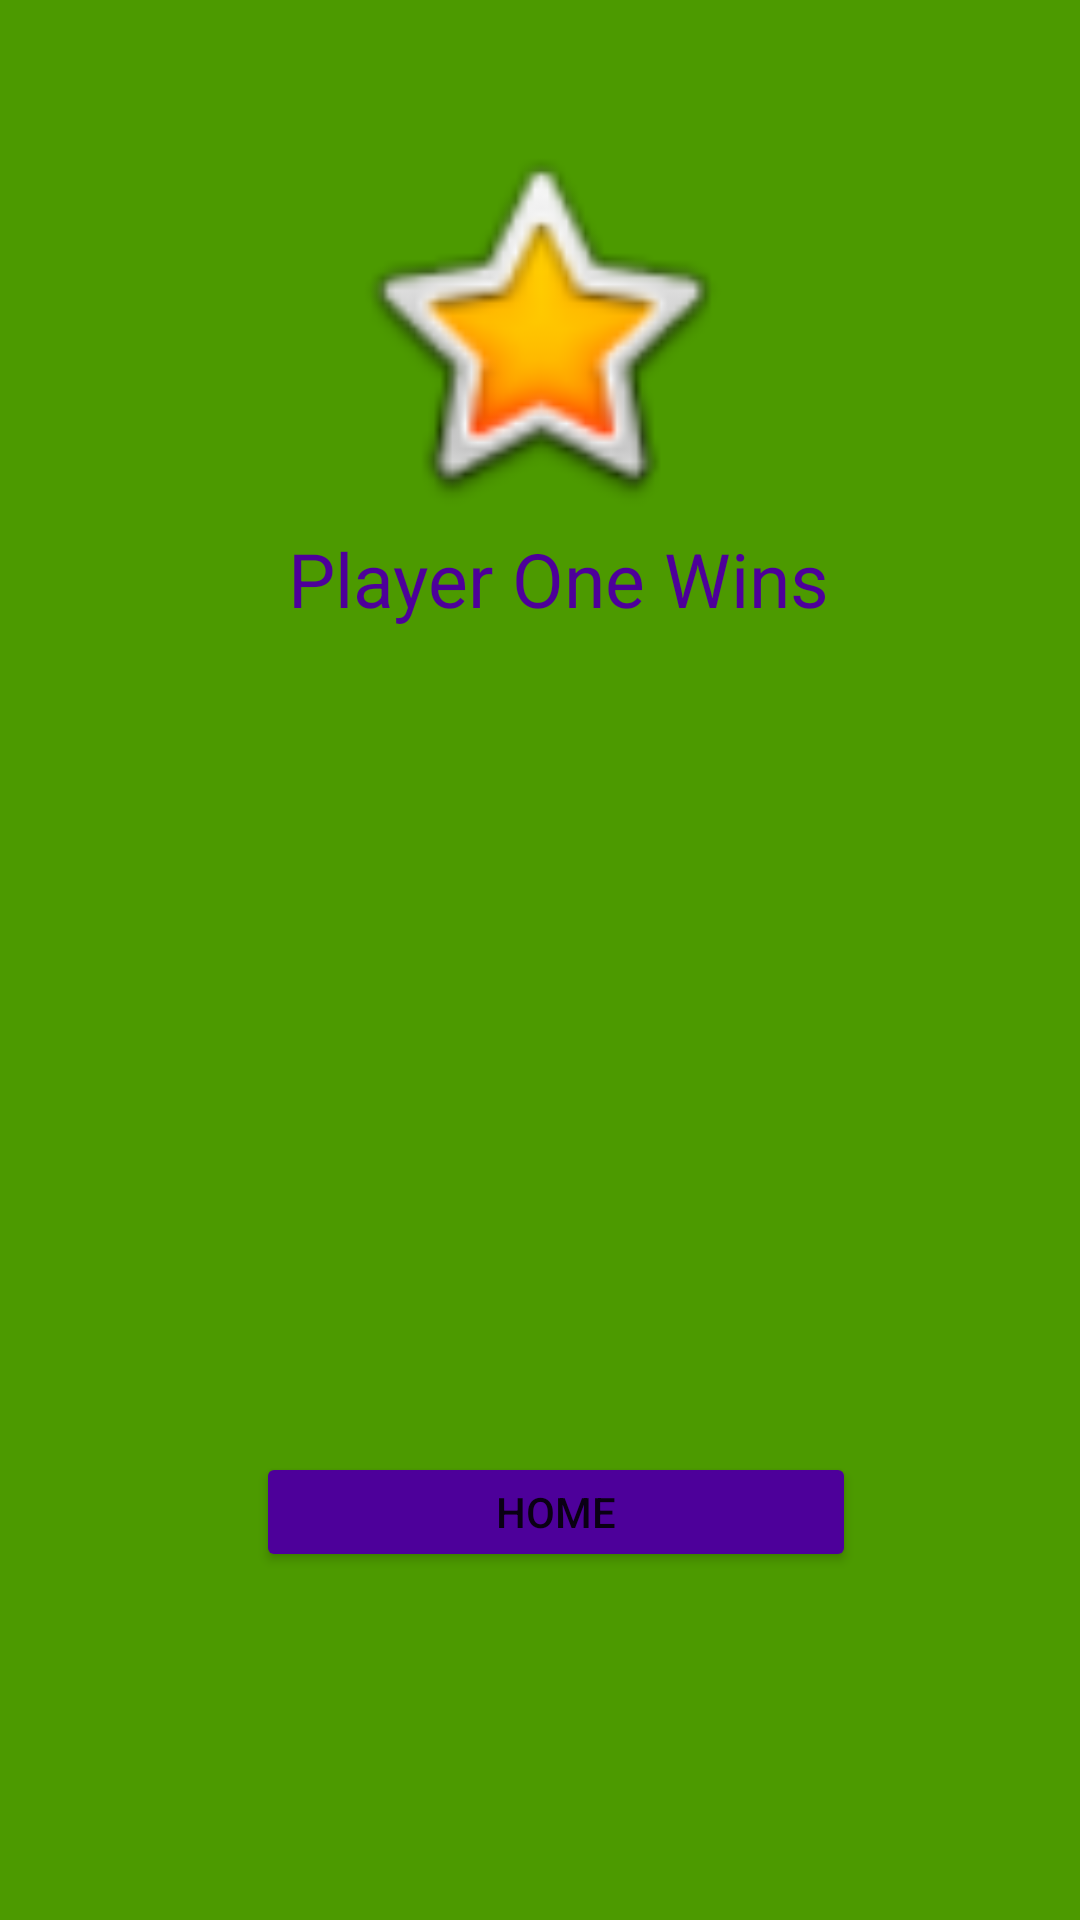

Named icons in this screenshot (1080 × 1920) and their centers, [x,y]:
star on: [542,330]
